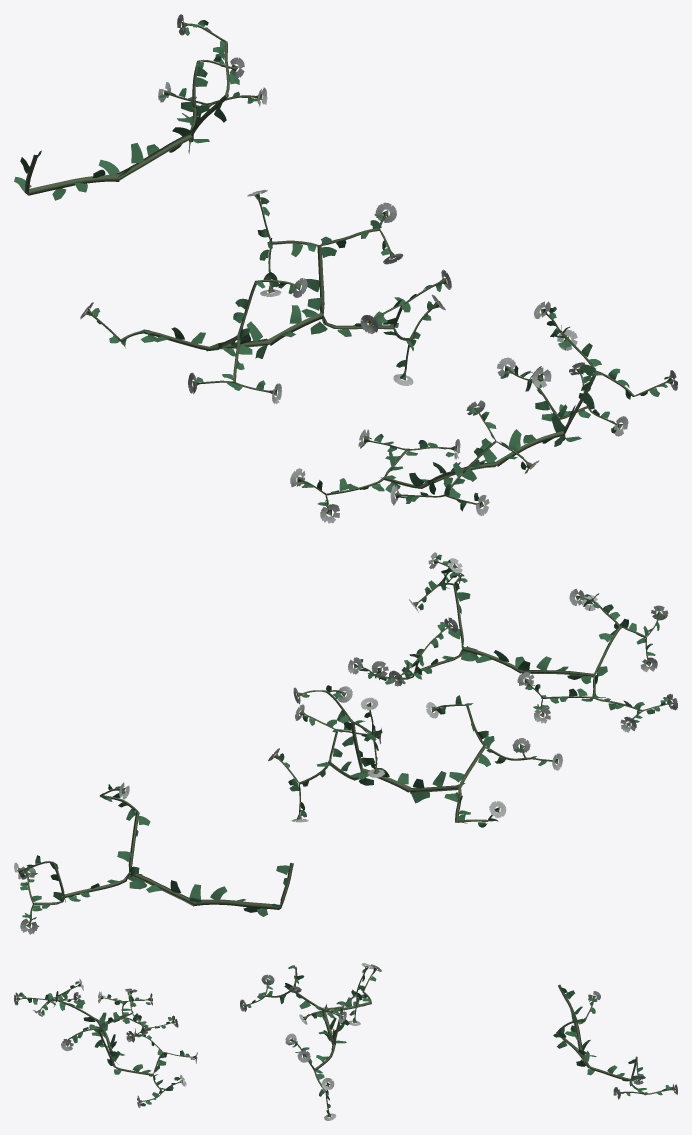
The model's file is wigglytest.fbx.
3 views of the same model, one above another, from view 1: azimuth 30°, elevation 25°; view 2: azimuth 150°, elevation 25°; view 3: azimuth 270°, elevation 25° (orthographic). The views are drawn at different scales.
Parts seen in each view (by area): view 1: daisyLarge1Leaf, daisyLarge1Main, daisyLarge1Flower; view 2: daisyLarge1Leaf, daisyLarge1Main, daisyLarge1Flower; view 3: daisyLarge1Leaf, daisyLarge1Main, daisyLarge1Flower.
Part boxes in pixels (<box>): daisyLarge1Leaf: <box>14,20,672,511</box>; daisyLarge1Main: <box>24,21,673,515</box>; daisyLarge1Flower: <box>80,14,677,523</box>; daisyLarge1Leaf: <box>20,554,668,927</box>; daisyLarge1Main: <box>17,558,673,928</box>; daisyLarge1Flower: <box>14,552,677,934</box>; daisyLarge1Leaf: <box>18,965,672,1113</box>; daisyLarge1Main: <box>16,966,675,1117</box>; daisyLarge1Flower: <box>14,963,677,1120</box>.
Bounding box in the file's own units: 3.09 × 1.59 × 7.52.
